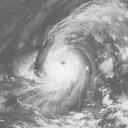cyclone: (44, 46, 84, 84)
